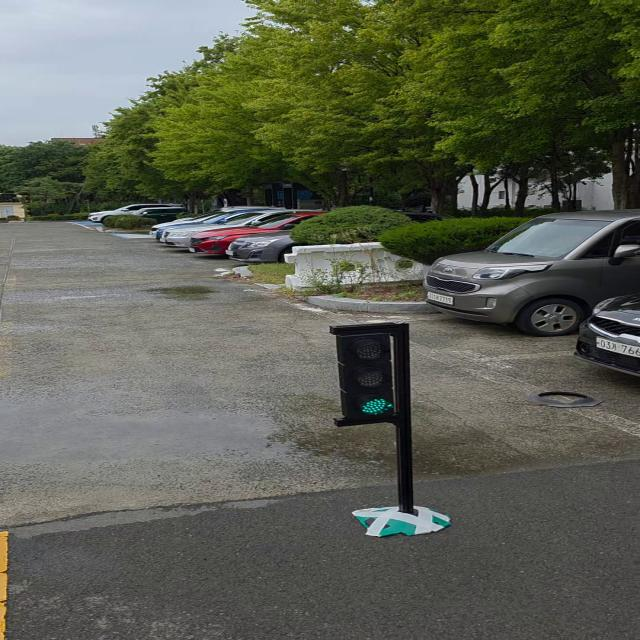green: (335, 329, 403, 424)
